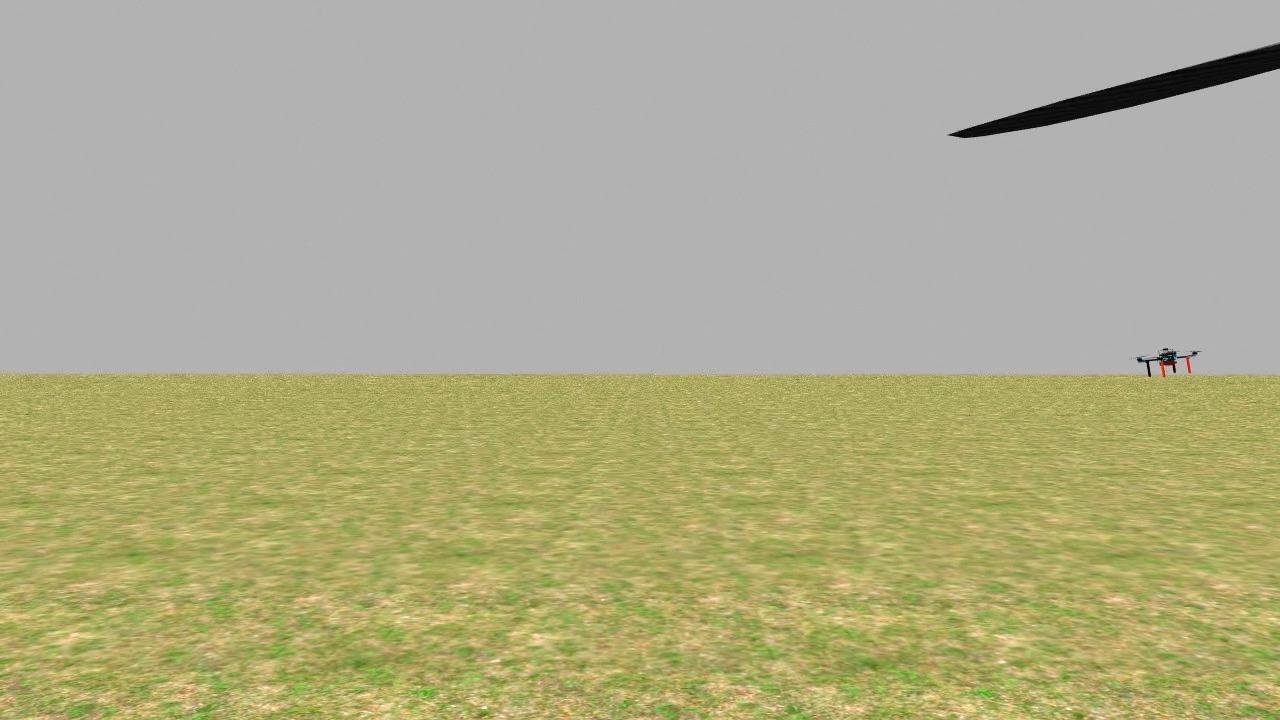UAV: (1131, 338, 1207, 384)
